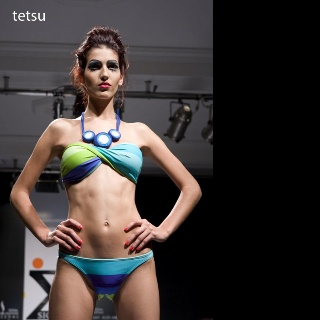without_mask: (83, 46, 121, 98)
